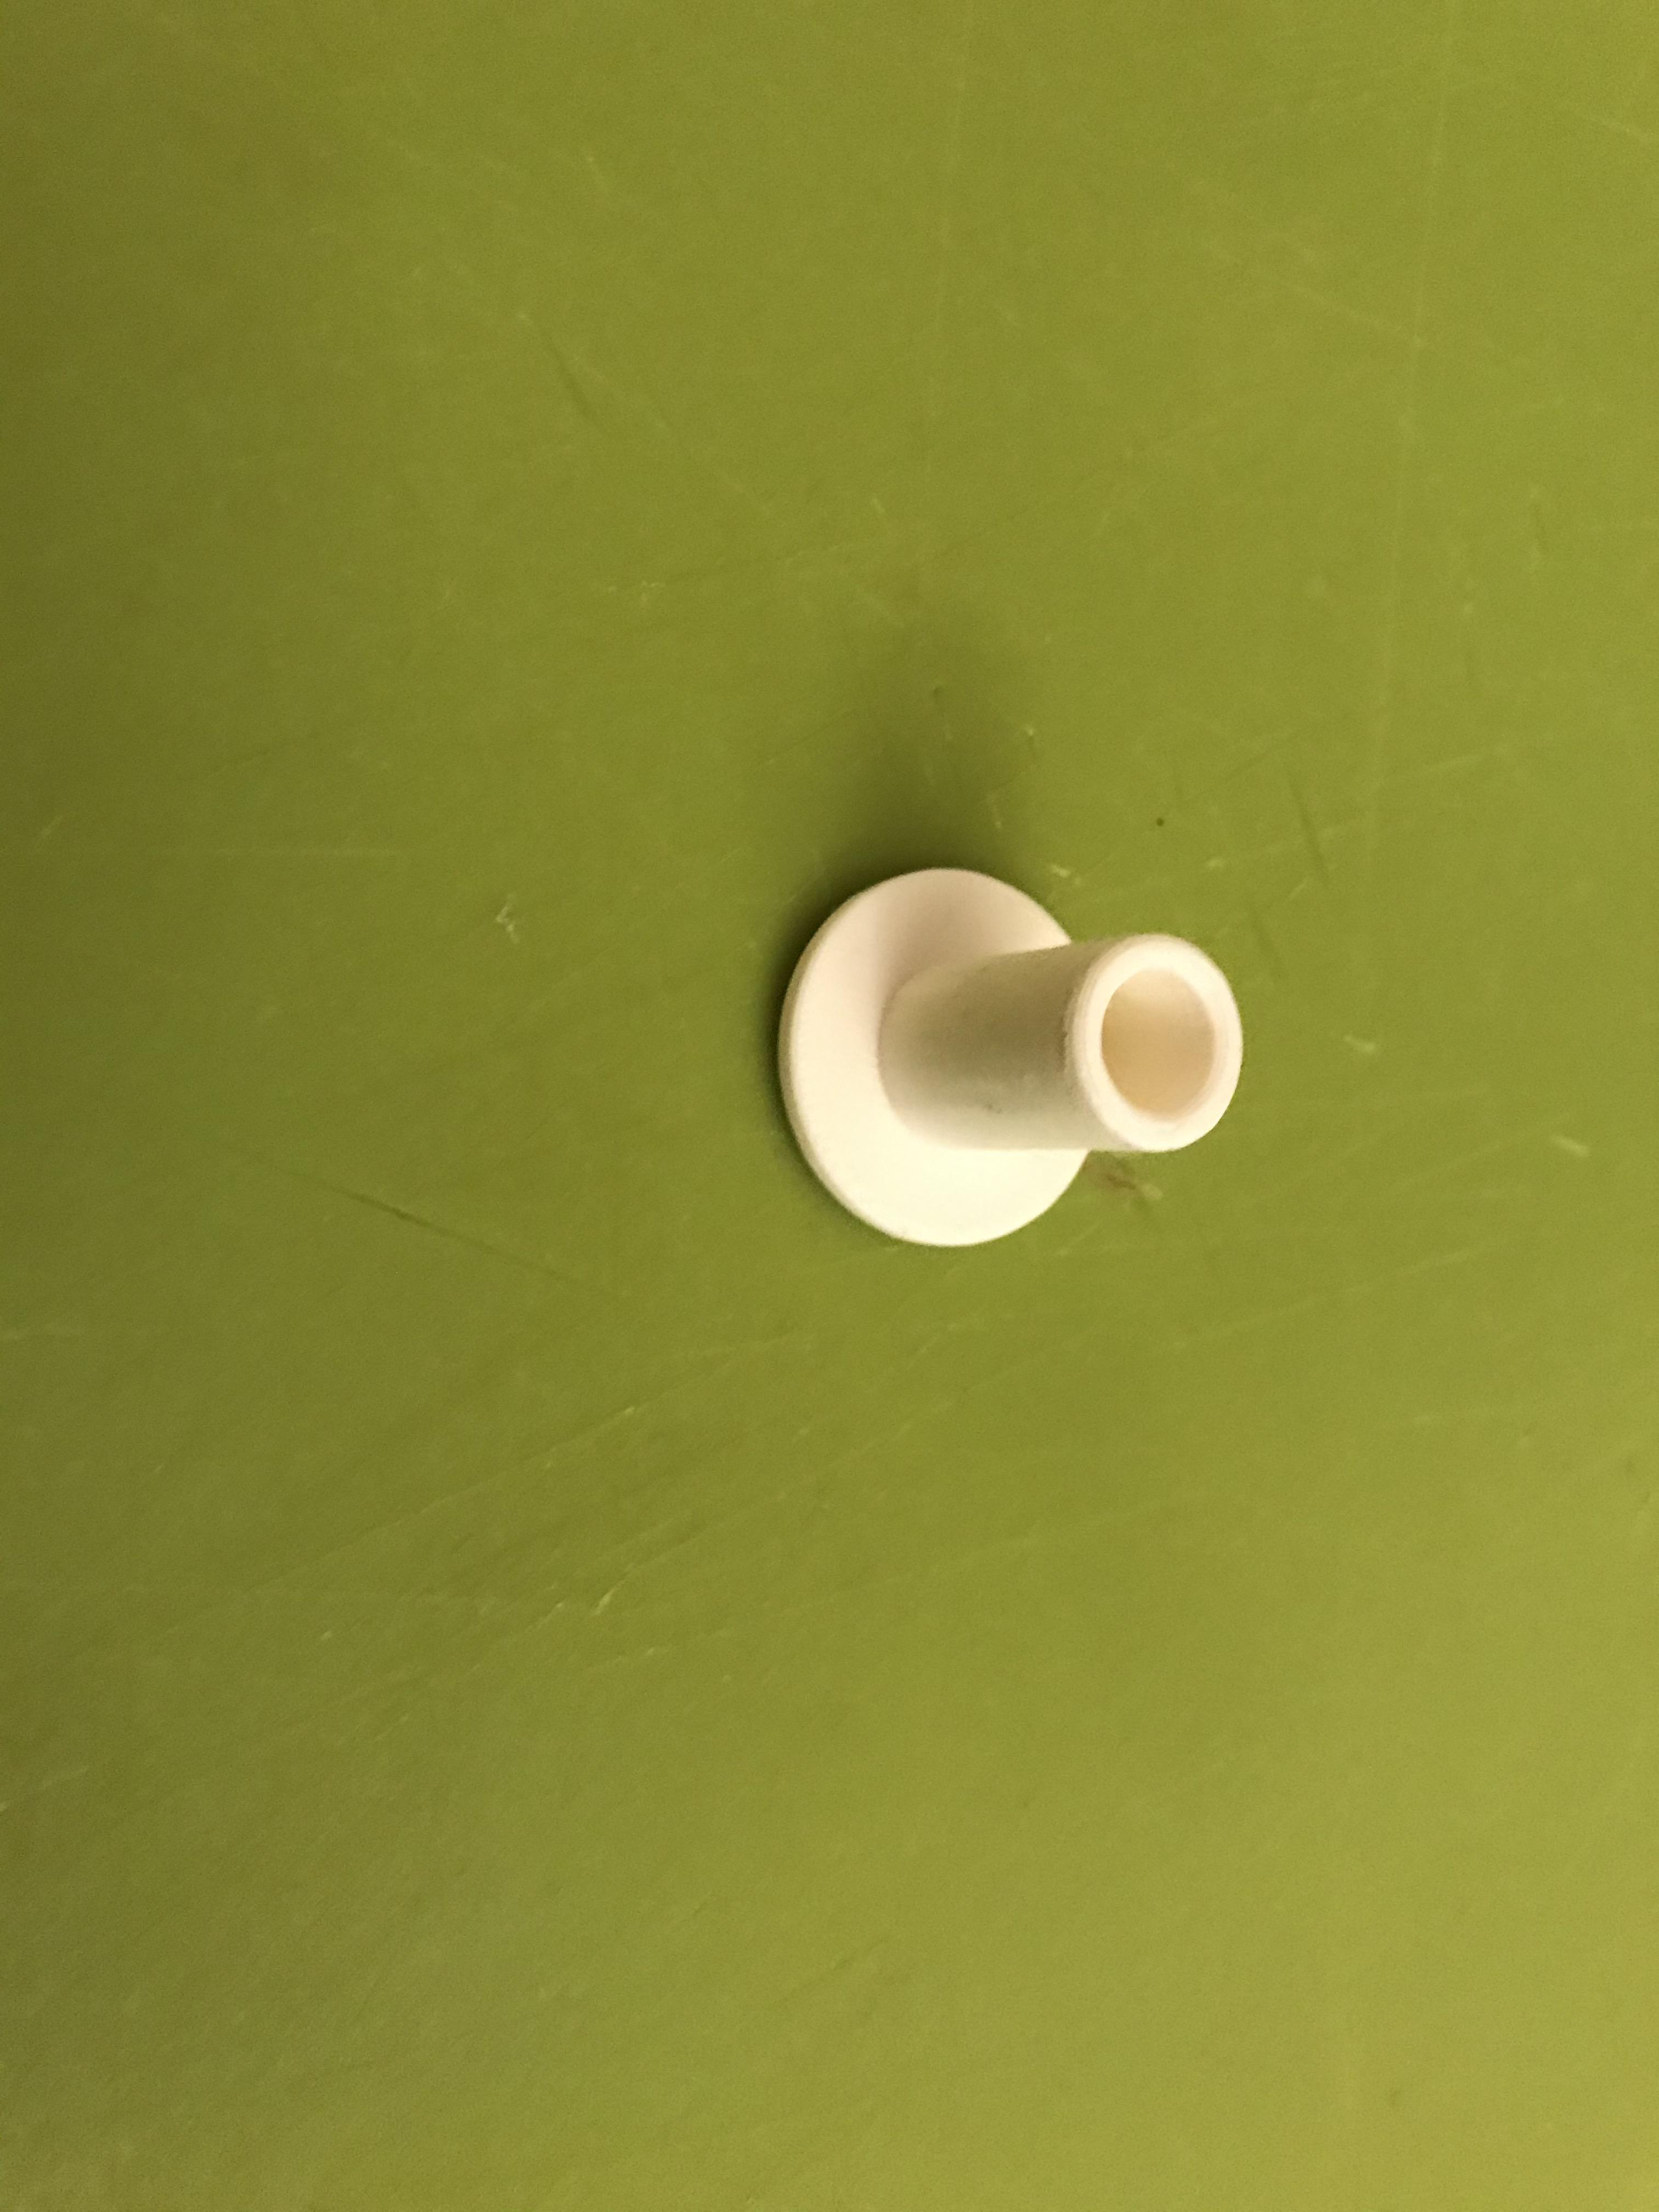White Cone: (767, 855, 1253, 1261)
